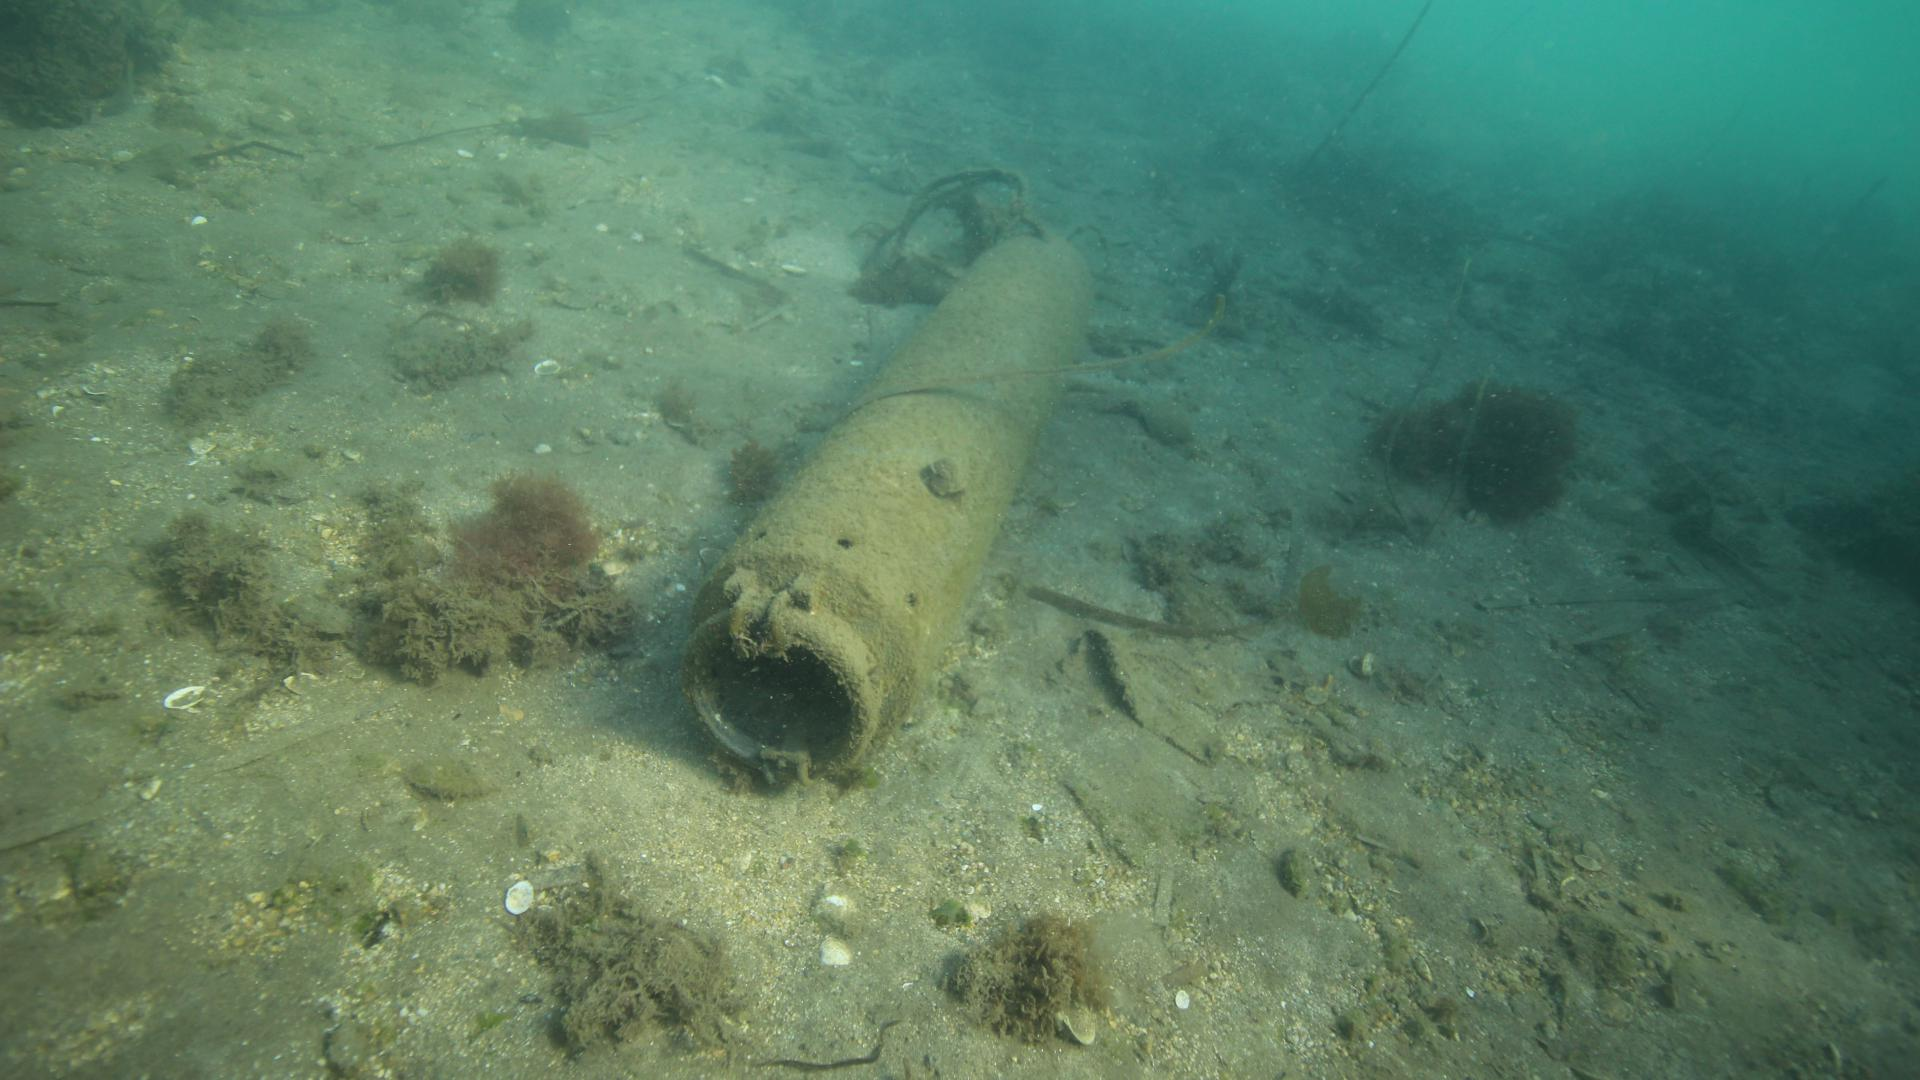bundle of ropes: (870, 164, 1027, 261)
eel fish trap: (680, 229, 1091, 787)
